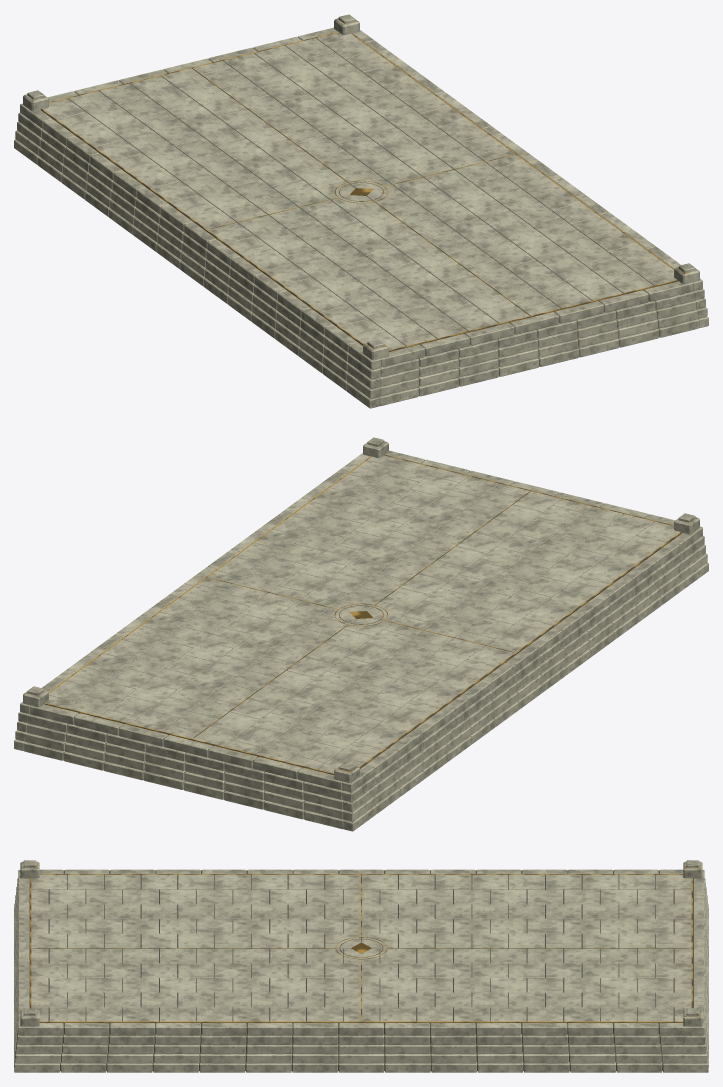
The model's file is arena_05.fbx.
3 views of the same model, one above another, from view 1: azimuth 30°, elevation 25°; view 2: azimuth 150°, elevation 25°; view 3: azimuth 270°, elevation 25° (orthographic). The views are drawn at different scales.
Parts seen in each view (by area): view 1: arena_05; view 2: arena_05; view 3: arena_05.
Boxes of the visible parts, box(x1,y1,x2,y2) form: arena_05: box(14, 14, 708, 408); arena_05: box(14, 437, 708, 831); arena_05: box(14, 860, 708, 1072).
Bounding box in the file's own units: 55000 × 100000 × 8850.
